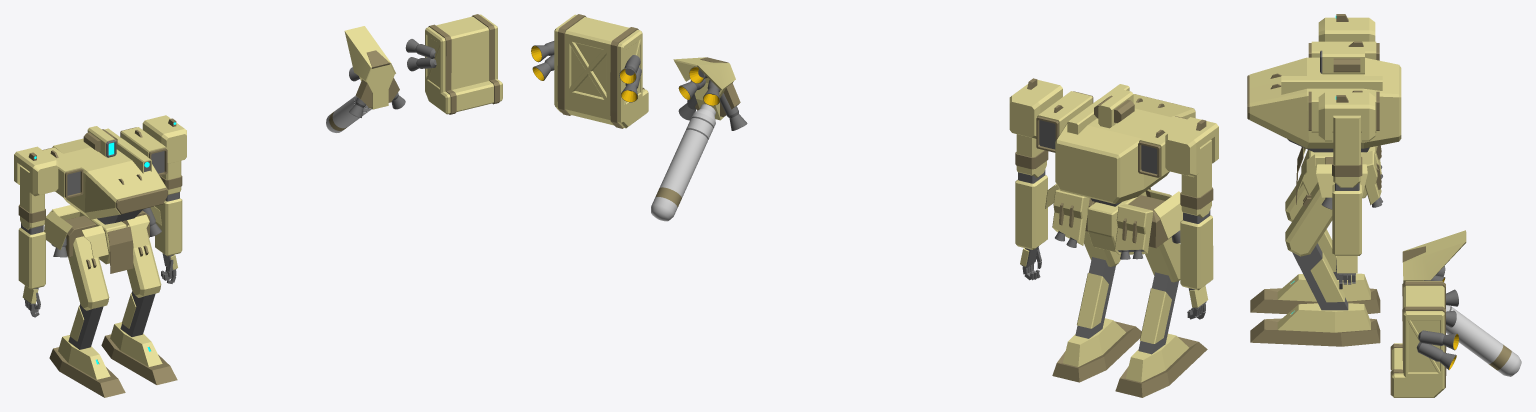
The model's file is Mech Mk2C.fbx.
The picture shows the model from 3 angles, left to right: view 1: azimuth 30°, elevation 25°; view 2: azimuth 150°, elevation 25°; view 3: azimuth 270°, elevation 25°; orthographic projection. The views are drawn at different scales.
Parts seen in each view (by area): view 1: pasted__pCube54, pasted__pCube68, pCube47, pCube48, pCube3, pCube37, pasted__pCube45, pasted__pCube53, pasted__pCube70, pCube31, pasted__pCube42, pasted__pCube66 (+14 smaller); view 2: pasted__pCube54, pasted__pCube68, pCube48, pCube47, pCylinder6, pCube33 (×2), pasted__pCube45, pasted__pCube70, pasted__pCube53, pasted__pCube42, pasted__pCube69, pasted__pCube66 (+13 smaller); view 3: pasted__pCube68, pasted__pCube54, pCube47, pCube48, pasted__pCube70, pasted__pCube56, pasted__pCube42, pCylinder6, pCube31, pCube3, pasted__pCube28, pasted__pCube53 (+13 smaller).
Part boxes in pixels (bbox=[...]): pasted__pCube54: bbox=[425, 14, 502, 114]; pasted__pCube68: bbox=[52, 138, 167, 219]; pCube47: bbox=[101, 322, 177, 384]; pCube48: bbox=[49, 335, 125, 397]; pCube3: bbox=[344, 26, 395, 109]; pCube37: bbox=[68, 236, 109, 310]; pasted__pCube45: bbox=[18, 223, 45, 289]; pasted__pCube53: bbox=[14, 146, 58, 196]; pasted__pCube70: bbox=[155, 192, 182, 256]; pCube31: bbox=[127, 225, 161, 297]; pasted__pCube42: bbox=[142, 115, 186, 163]; pasted__pCube66: bbox=[18, 165, 45, 230]; pasted__pCube54: bbox=[554, 14, 648, 128]; pasted__pCube68: bbox=[1055, 94, 1195, 203]; pCube48: bbox=[1115, 333, 1207, 397]; pCube47: bbox=[1052, 318, 1141, 382]; pCylinder6: bbox=[651, 104, 715, 221]; pCube33 (×2): bbox=[1077, 273, 1171, 343]; pasted__pCube45: bbox=[1180, 210, 1213, 290]; pasted__pCube70: bbox=[1015, 170, 1047, 249]; pasted__pCube53: bbox=[1165, 117, 1218, 177]; pasted__pCube42: bbox=[1009, 79, 1062, 138]; pasted__pCube69: bbox=[1036, 91, 1093, 152]; pasted__pCube66: bbox=[1180, 139, 1213, 218]; pasted__pCube68: bbox=[1247, 57, 1401, 148]; pasted__pCube54: bbox=[1390, 281, 1446, 397]; pCube47: bbox=[1250, 303, 1380, 346]; pCube48: bbox=[1250, 273, 1380, 313]; pasted__pCube70: bbox=[1332, 183, 1361, 255]; pasted__pCube56: bbox=[1332, 115, 1362, 187]; pasted__pCube42: bbox=[1318, 92, 1375, 141]; pCylinder6: bbox=[1446, 305, 1521, 376]; pCube31: bbox=[1285, 182, 1332, 256]; pCube3: bbox=[1403, 230, 1466, 282]; pasted__pCube28: bbox=[1281, 76, 1382, 94]; pasted__pCube53: bbox=[1318, 17, 1375, 41].
Bounding box in the file's own units: 57.5 × 24.26 × 22.38.
